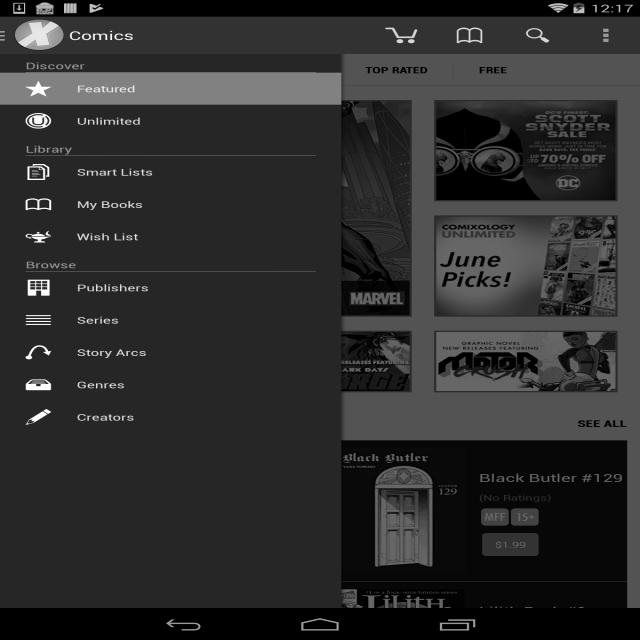Button: (479, 531, 542, 558), (172, 531, 234, 558)
ImageButton: (571, 16, 640, 54)
ImageView: (22, 100, 412, 317), (434, 215, 618, 317), (434, 100, 618, 201), (26, 448, 159, 573), (333, 448, 466, 573), (22, 331, 206, 392), (228, 331, 412, 392), (434, 331, 618, 392), (26, 589, 159, 640), (333, 589, 466, 640), (367, 17, 435, 54), (14, 19, 64, 52), (481, 508, 509, 526), (511, 508, 539, 526), (174, 508, 201, 526), (204, 508, 231, 526), (0, 30, 17, 41)
TextView: (197, 418, 574, 432), (172, 463, 320, 492), (172, 604, 320, 633), (479, 463, 623, 492), (110, 54, 232, 86), (339, 54, 454, 86), (0, 54, 110, 86), (233, 54, 339, 86), (479, 596, 587, 625), (13, 415, 197, 432), (0, 164, 179, 180), (0, 279, 174, 295), (0, 344, 172, 360), (0, 196, 169, 212), (0, 113, 166, 129), (0, 228, 164, 244), (0, 80, 162, 96), (453, 54, 533, 86), (0, 409, 160, 425), (435, 17, 504, 54), (503, 17, 572, 54), (0, 376, 150, 392), (0, 312, 145, 328), (69, 27, 134, 43), (172, 492, 244, 503), (479, 492, 551, 503), (26, 59, 84, 72), (26, 258, 76, 271), (578, 417, 627, 430), (26, 143, 72, 155)
